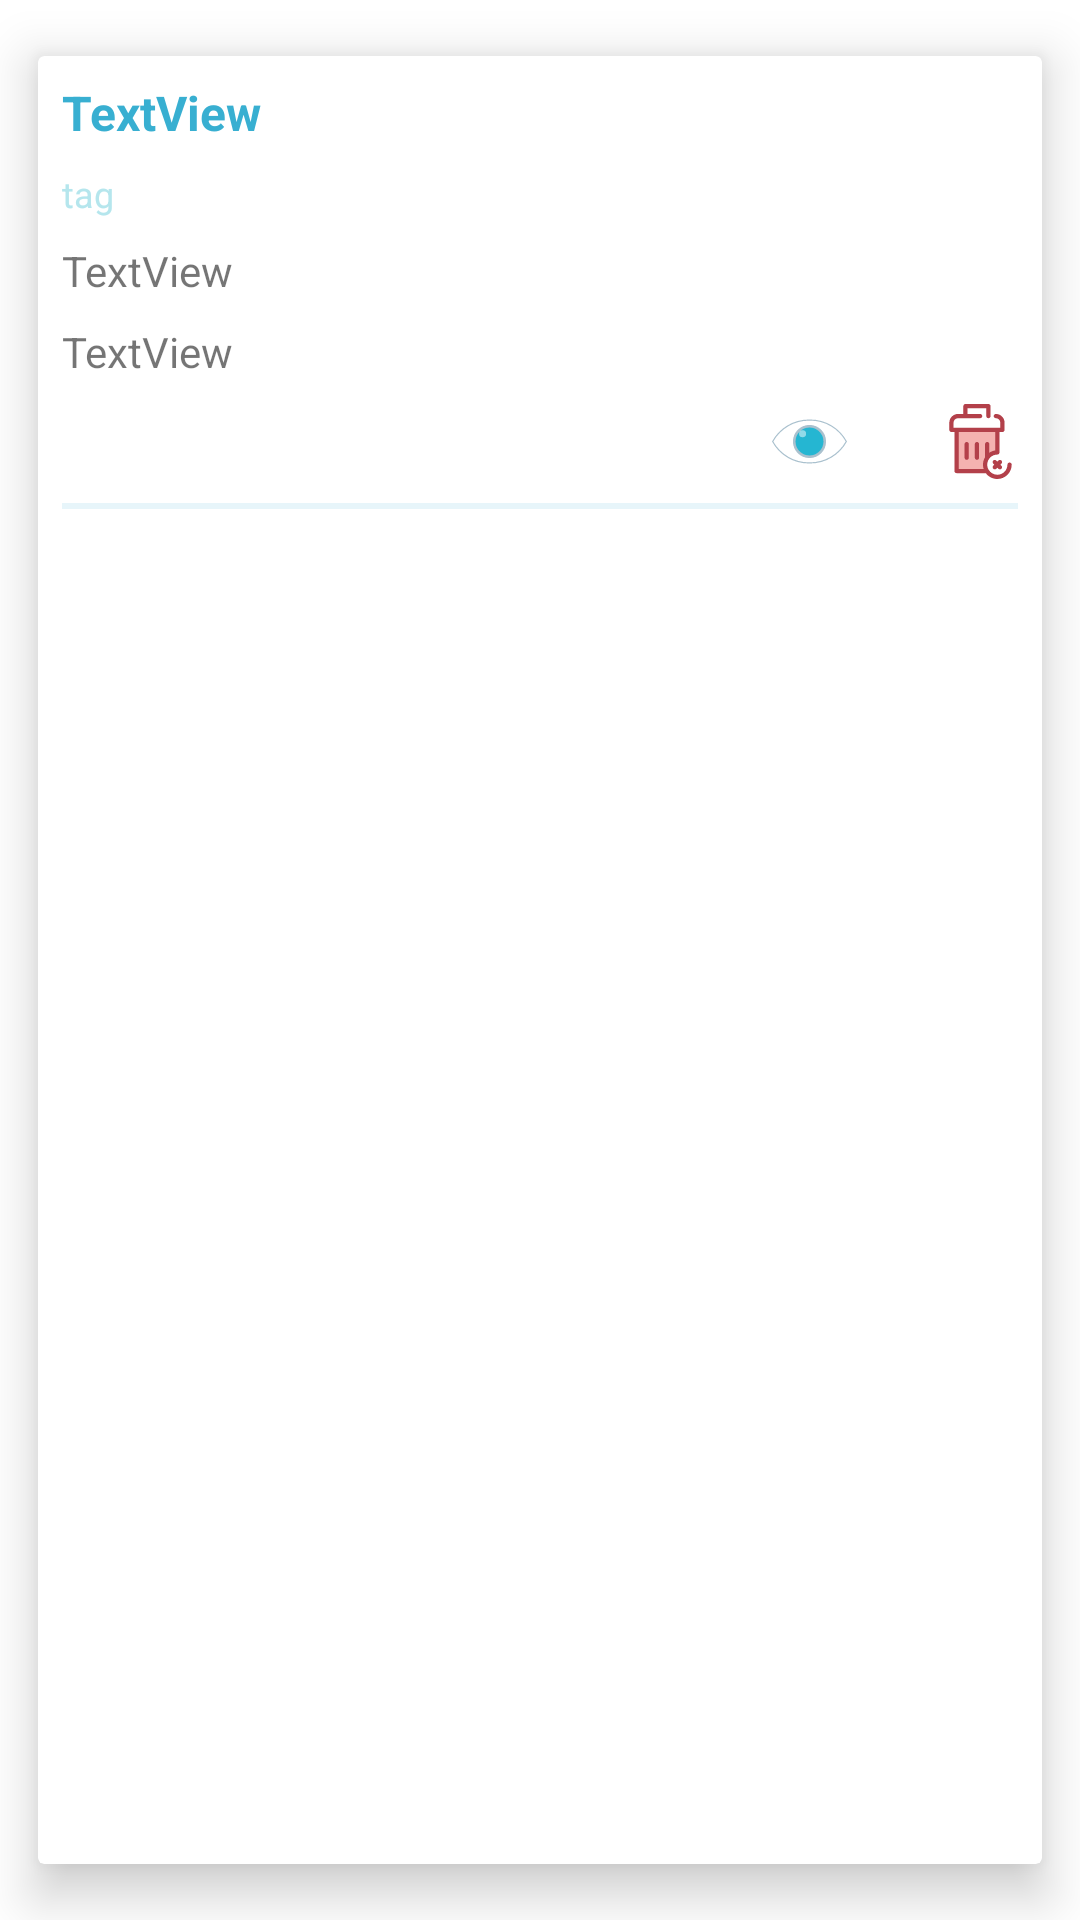

Point at icon controls on the screen. Image size 1080 × 1920, points as [x,y].
delete: [980,441]
view eye: [809,441]
